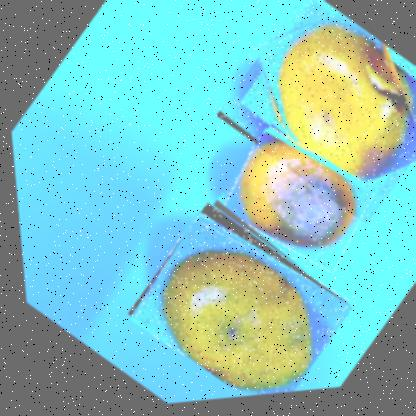orange_rotten: (112, 194, 353, 408), (202, 0, 415, 242), (202, 117, 382, 296)
